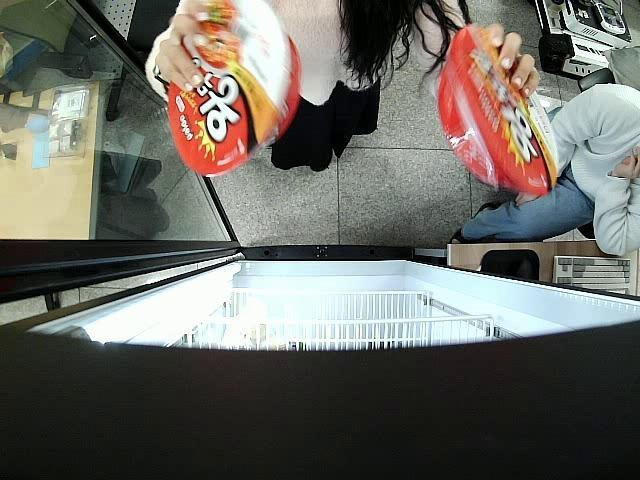10_wangTtukkeong: (168, 0, 300, 178), (436, 26, 564, 195)
